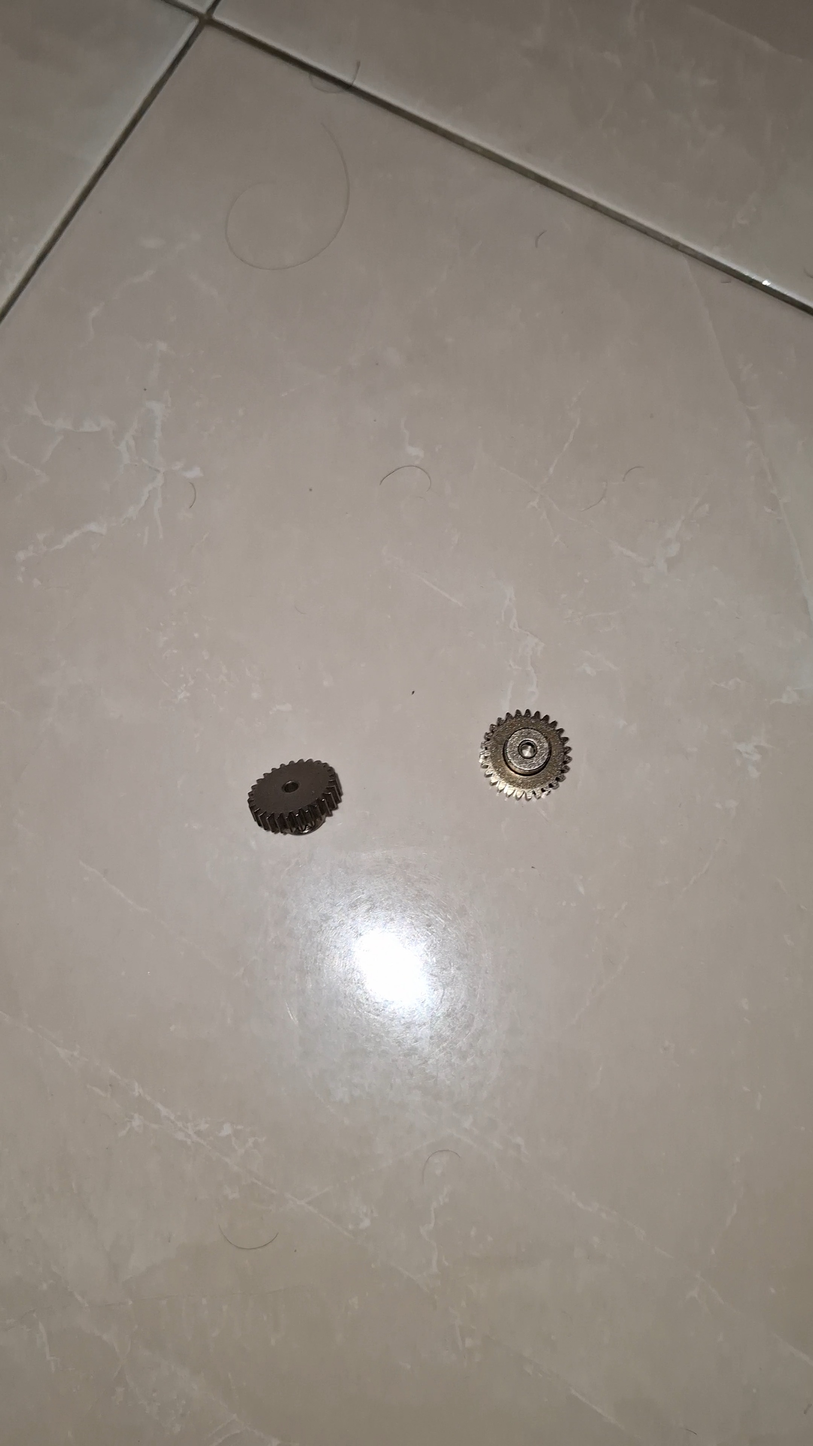spur gear: (480, 710, 571, 799), (248, 760, 341, 834)
